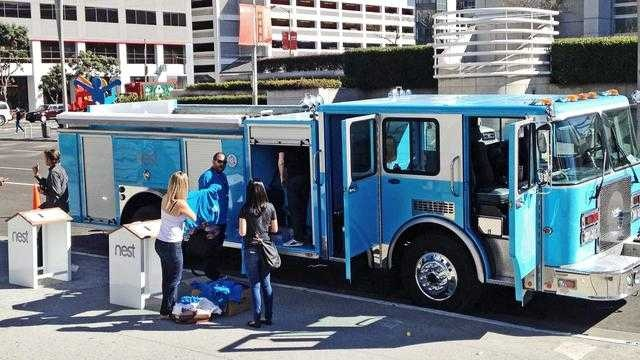Fire Truck: (49, 75, 635, 308)
